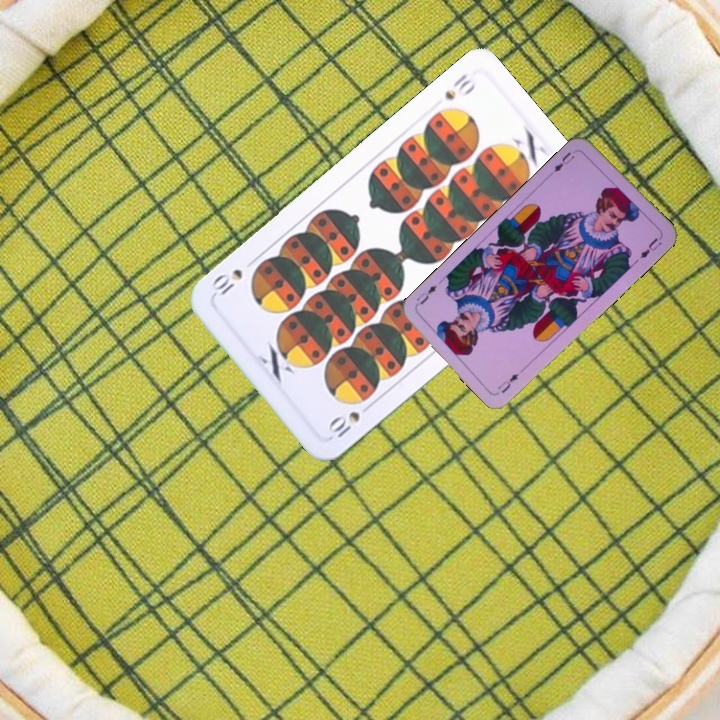EU: (546, 148, 577, 178), (494, 369, 522, 396)
S10: (324, 398, 376, 443), (440, 69, 474, 103)
